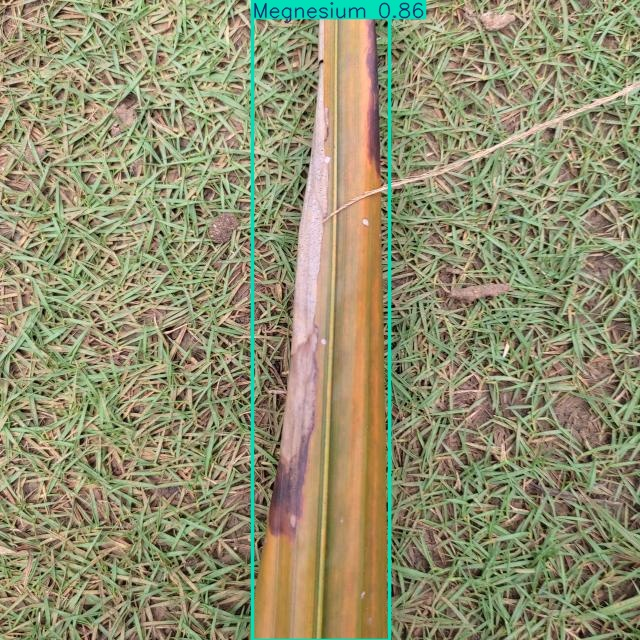Megnesium: (252, 0, 389, 640)
